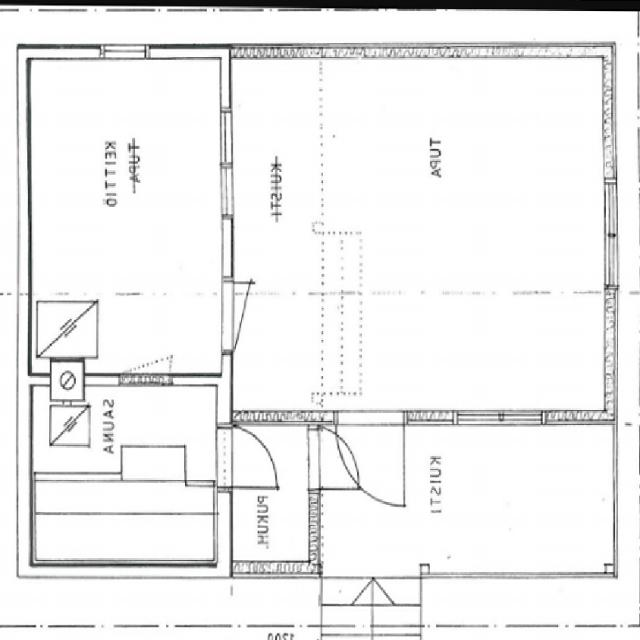door: (336, 410, 404, 508), (220, 282, 290, 352), (217, 428, 280, 487), (310, 428, 370, 488)
